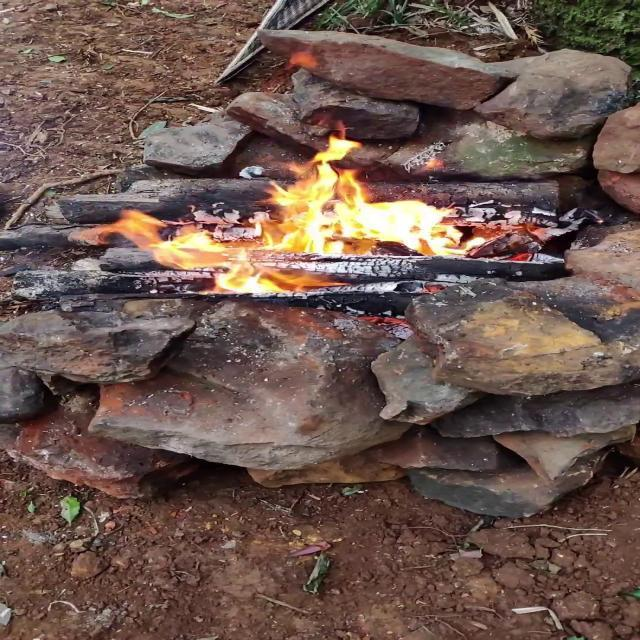Fire: (96, 130, 504, 304)
